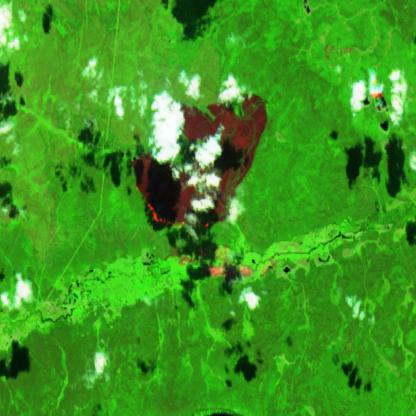fire: (146, 196, 216, 233), (368, 73, 382, 101)
